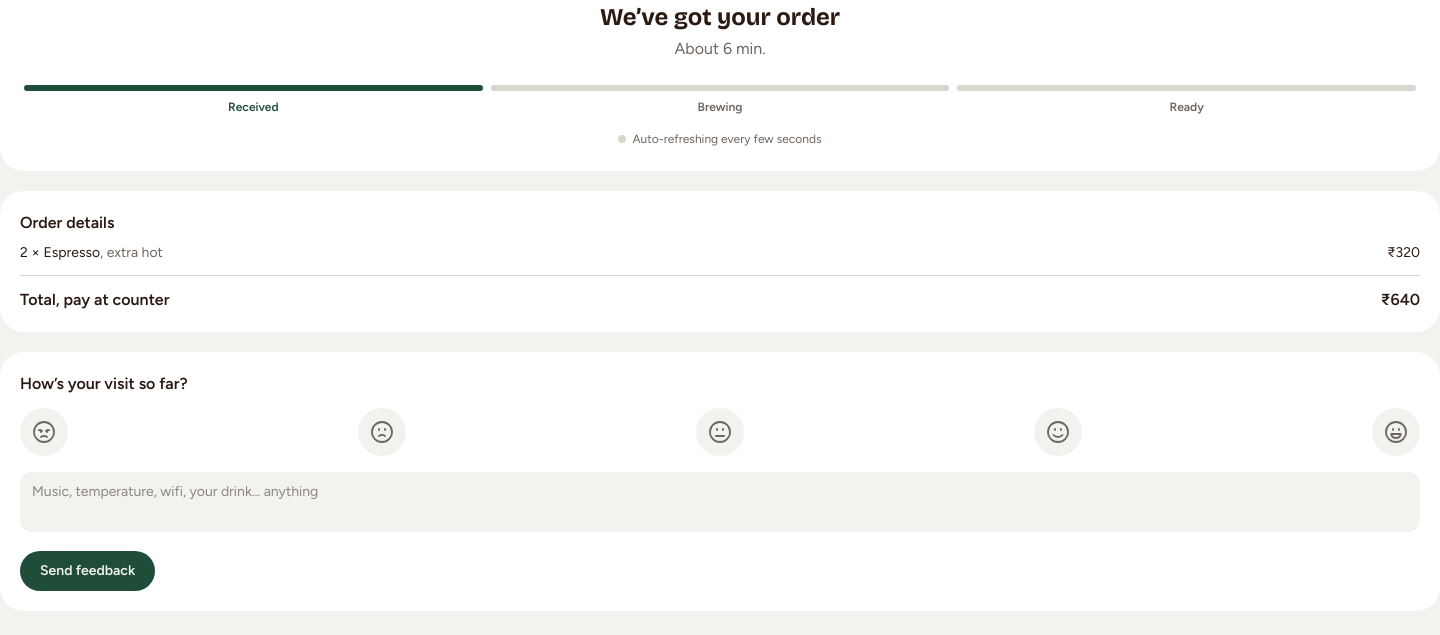
Test: OrderTracker: feedback card › marks the chosen face and clears the "pick a face" prompt
(page scrolled)
Click the button "Send feedback" at (88, 571), box left=20, top=551, right=155, bottom=591
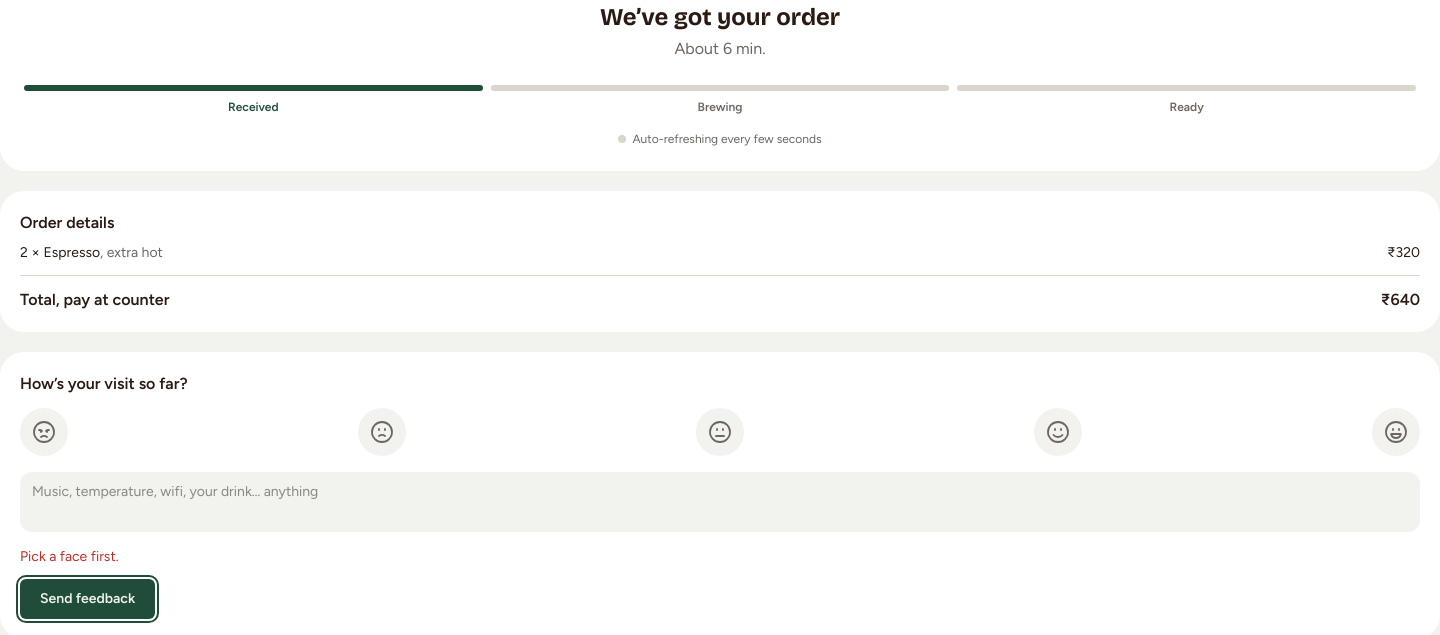
Click the radio button named "Happy" at (1058, 432), box left=1034, top=408, right=1082, bottom=456
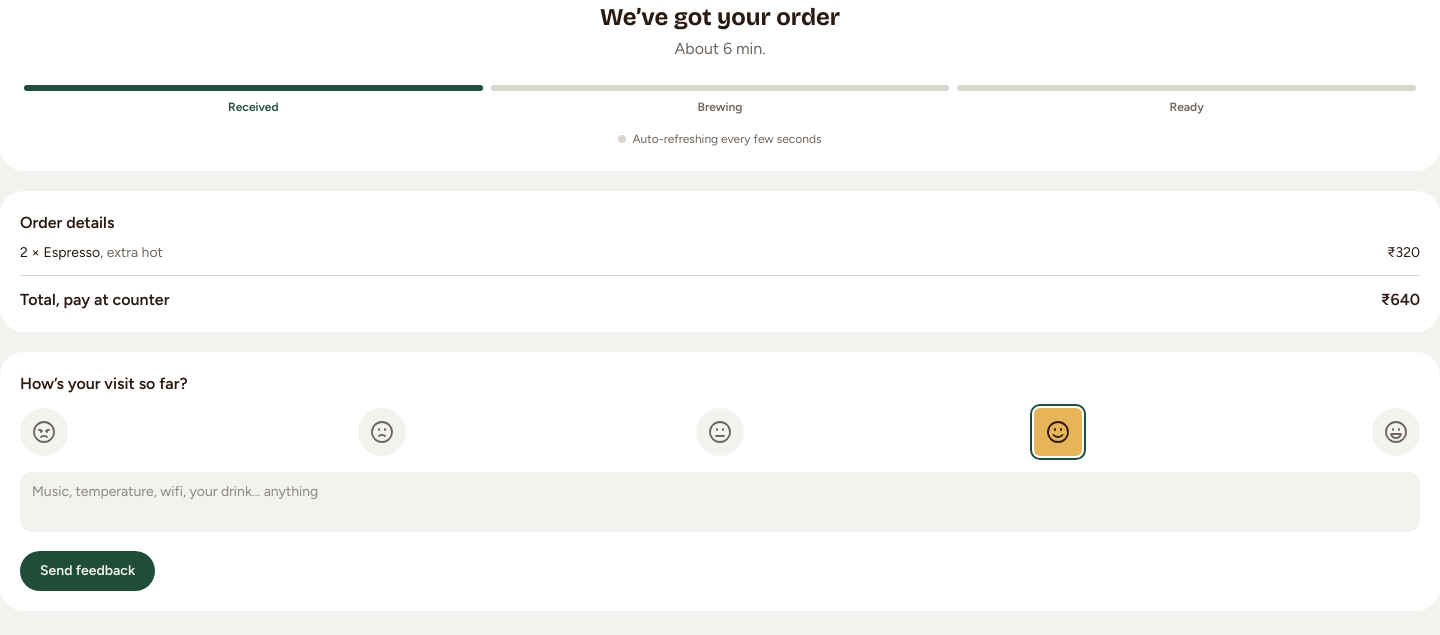
Now the text "Pick a face first." is gone
